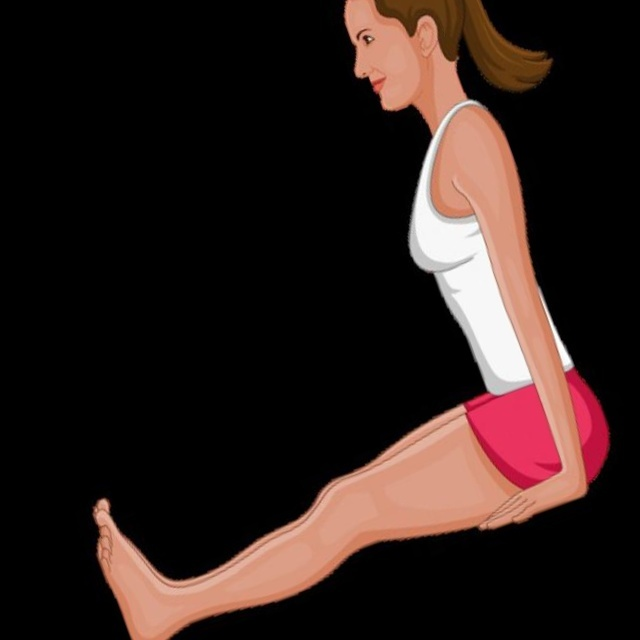Staff_Pose: (86, 1, 607, 638)
